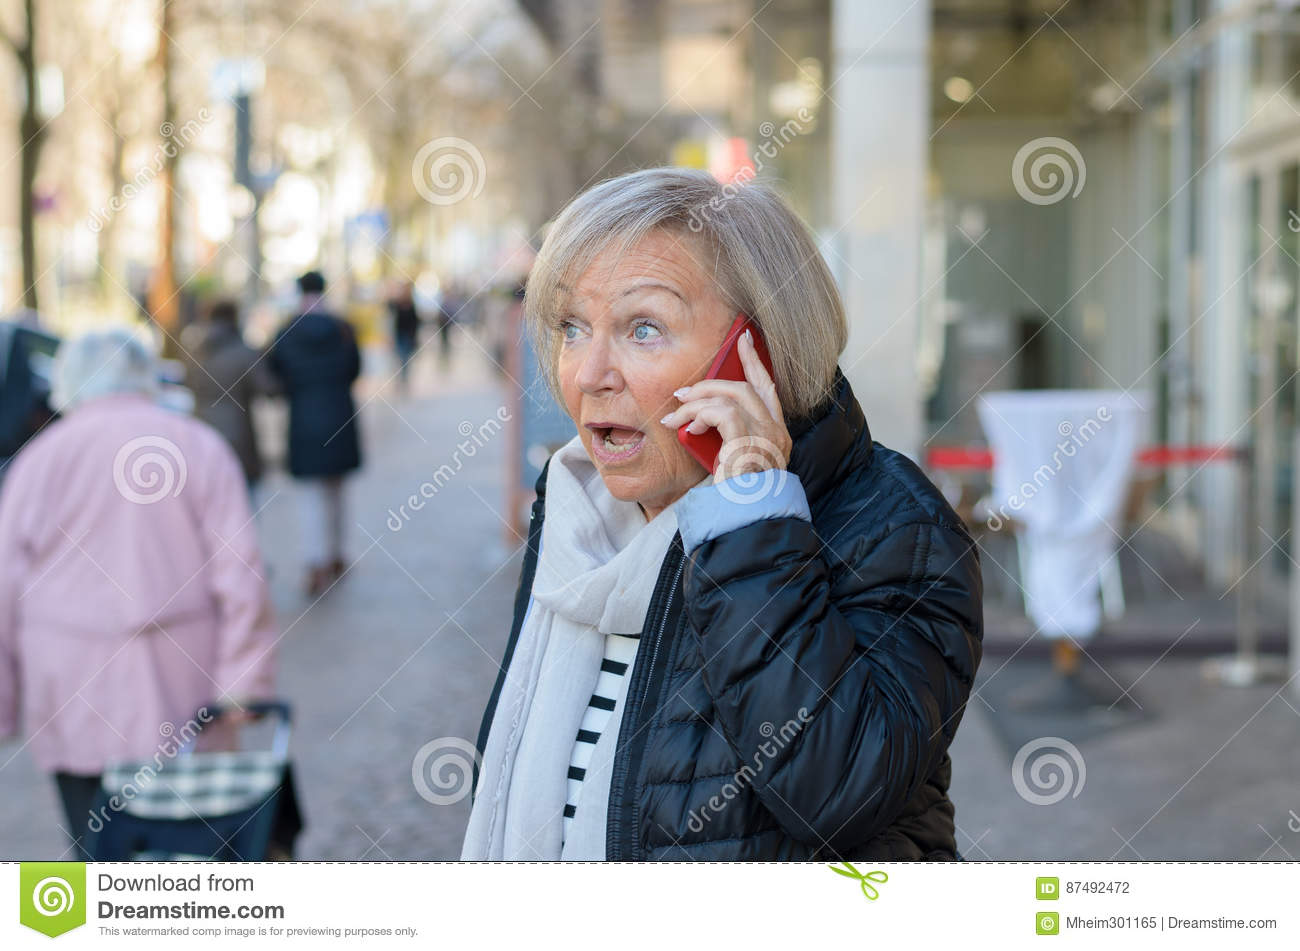phone: (679, 315, 773, 480)
talk: (548, 265, 792, 503)
